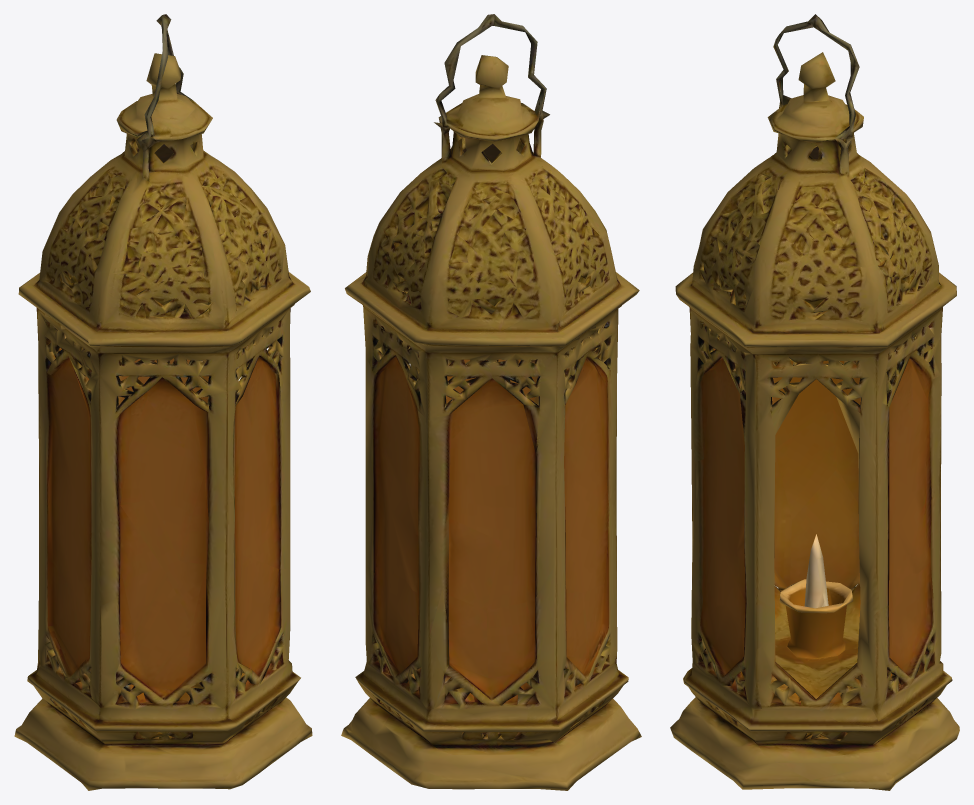
The model's file is lantern.glb.
The picture shows the model from 3 angles, left to right: view 1: azimuth 30°, elevation 25°; view 2: azimuth 150°, elevation 25°; view 3: azimuth 270°, elevation 25°; orthographic projection.
Visible parts, largest first — view 1: tripo_node_33d2f394-6381-4488-b6d4-dc10e305e03a; view 2: tripo_node_33d2f394-6381-4488-b6d4-dc10e305e03a; view 3: tripo_node_33d2f394-6381-4488-b6d4-dc10e305e03a.
Boxes of the visible parts, x1,y1,x2,y2 form: tripo_node_33d2f394-6381-4488-b6d4-dc10e305e03a: (14, 14, 312, 790); tripo_node_33d2f394-6381-4488-b6d4-dc10e305e03a: (341, 14, 641, 790); tripo_node_33d2f394-6381-4488-b6d4-dc10e305e03a: (670, 14, 959, 790).
Bounding box in the file's own units: 0.3283 × 1 × 0.3645.
Materials: 1 (1 with a texture image).
